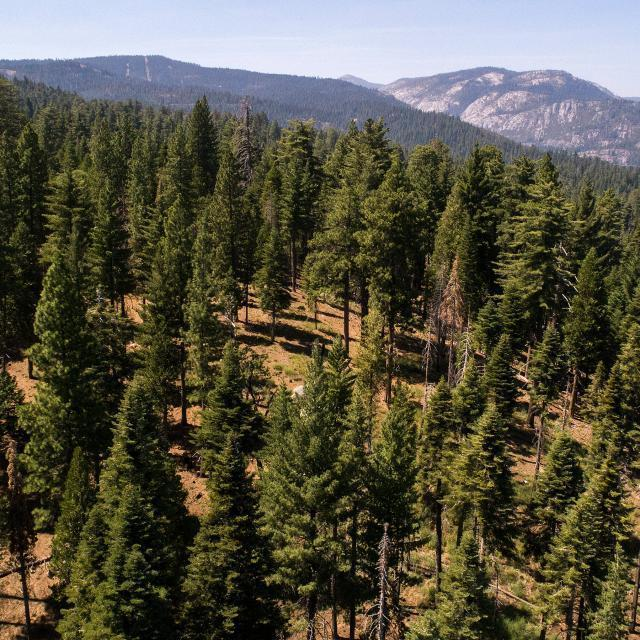tree: (268, 347, 359, 640), (169, 415, 255, 640), (346, 194, 432, 396), (538, 456, 634, 610), (423, 144, 492, 326), (480, 158, 560, 310), (448, 400, 512, 526), (303, 180, 363, 308), (30, 262, 90, 378), (99, 386, 163, 482), (17, 383, 73, 492), (48, 453, 96, 577), (562, 246, 606, 376), (371, 384, 421, 488), (280, 118, 324, 232), (205, 434, 258, 522), (178, 264, 214, 384), (44, 166, 88, 254), (537, 430, 579, 514), (525, 324, 567, 404), (252, 231, 292, 315), (186, 92, 217, 172), (481, 336, 517, 398), (212, 146, 244, 212), (452, 356, 483, 419)
